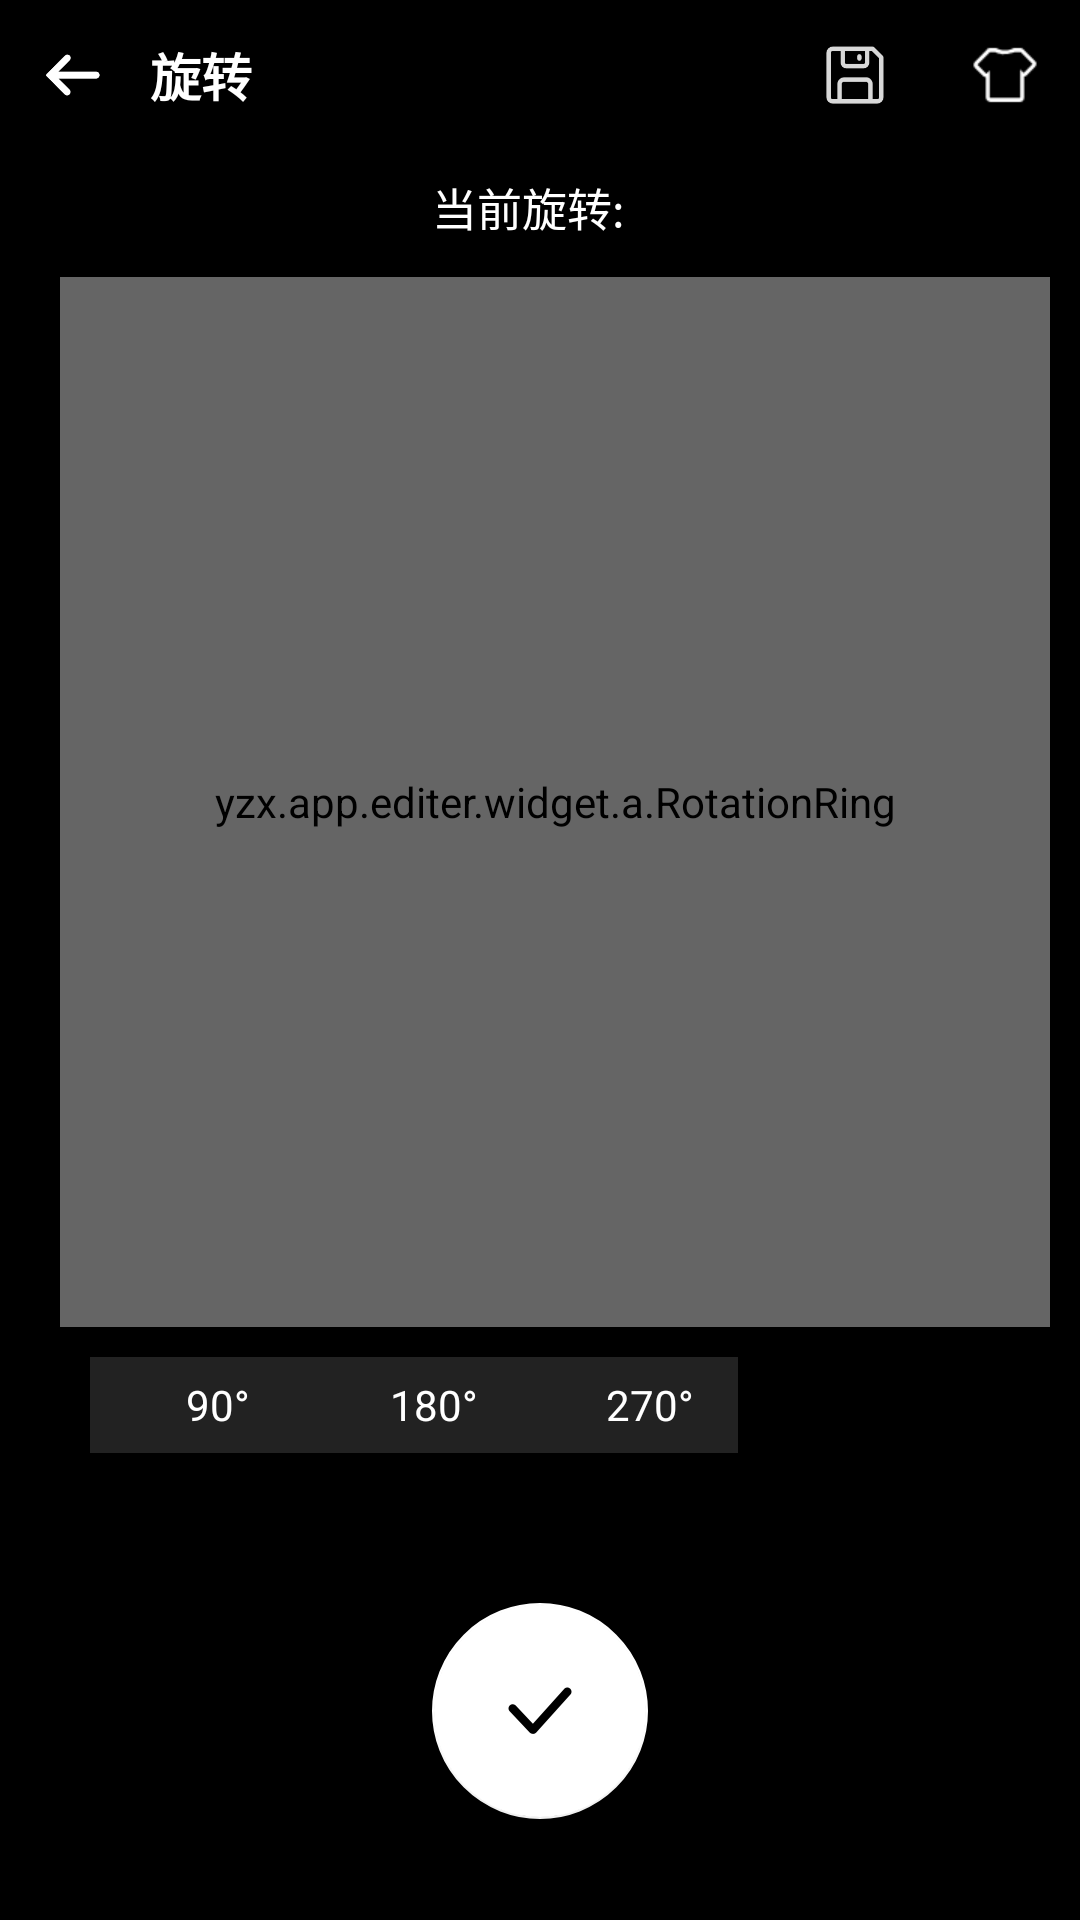

Point at icon controls on the screen. Image size 1080px×1920px, points as [x,y].
arrow back: [73,75]
cache: [855,75]
clothes: [1005,75]
confirm right: [540,1711]
